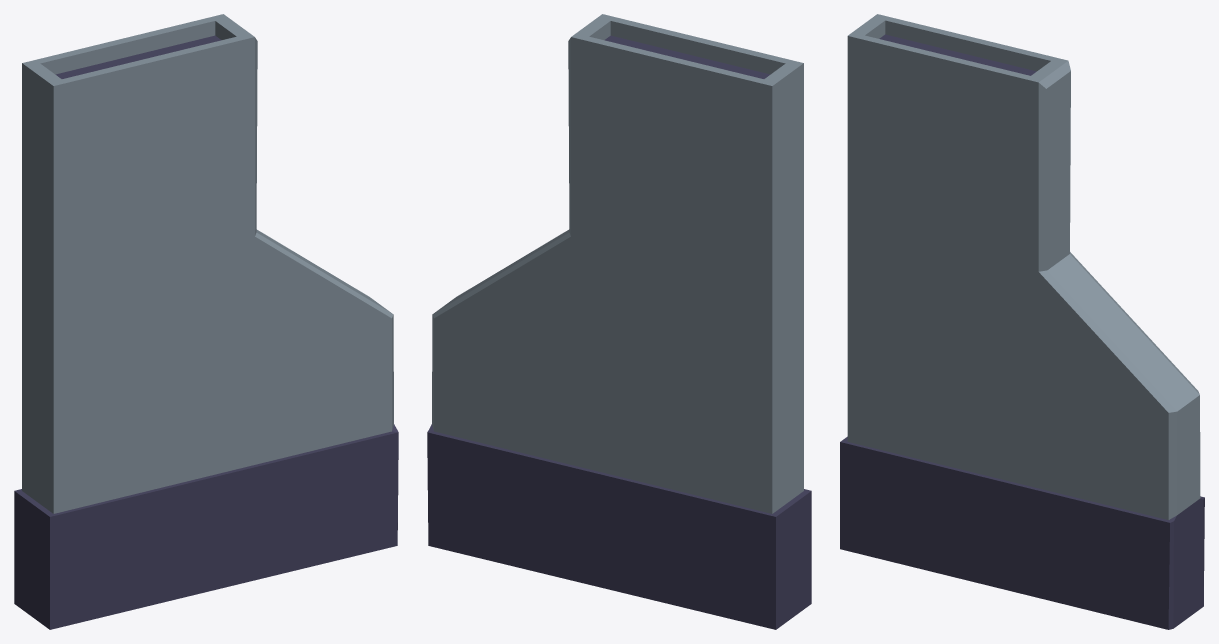
Rendered from gateL.fbx.
3 renders of one model, left to right at view 1: azimuth 30°, elevation 25°; view 2: azimuth 150°, elevation 25°; view 3: azimuth 330°, elevation 25°, orthographic. The views are drawn at different scales.
Parts seen in each view (by area): view 1: Cube.077; view 2: Cube.077; view 3: Cube.077.
Part boxes in pixels (<box>): Cube.077: <box>14,14,398,629</box>; Cube.077: <box>427,14,811,629</box>; Cube.077: <box>840,14,1204,629</box>.
Size of the model in its own units: 390 by 576 by 71.83.
